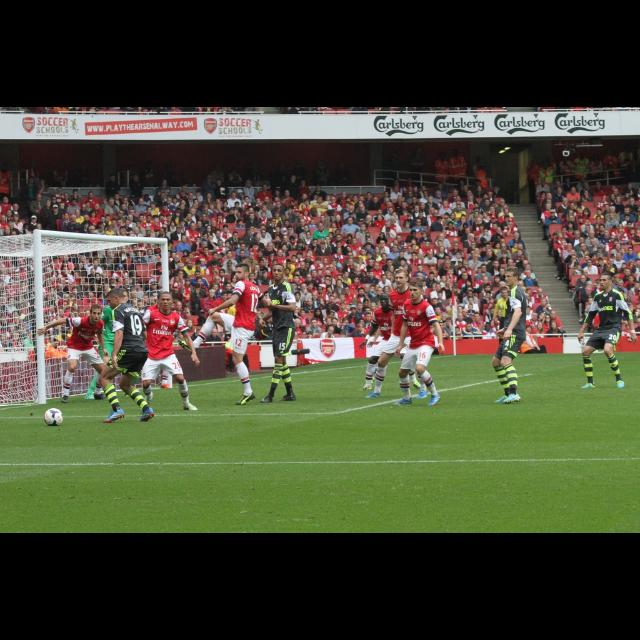Football: (43, 406, 61, 424)
